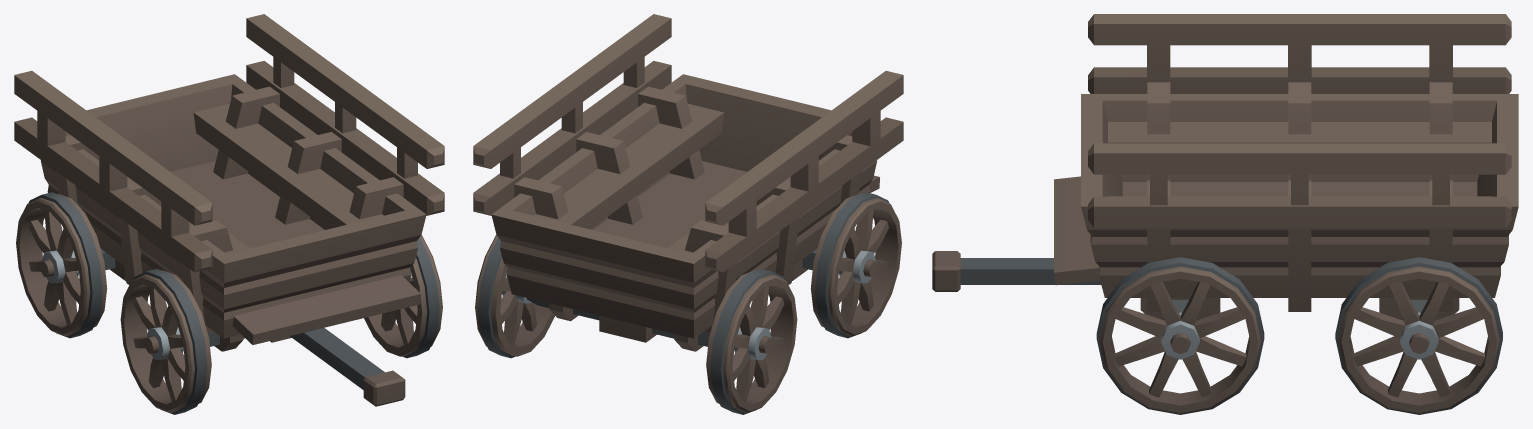
File: wagon.gltf
The picture shows the model from 3 angles, left to right: view 1: azimuth 30°, elevation 25°; view 2: azimuth 150°, elevation 25°; view 3: azimuth 270°, elevation 25°; orthographic projection. The views are drawn at different scales.
Visible parts, largest first — view 1: wagon, wagon_wheel_rear_right, wagon_wheel_front_right, wagon_wheel_front_left; view 2: wagon, wagon_wheel_front_right, wagon_wheel_rear_right, wagon_wheel_rear_left; view 3: wagon, wagon_wheel_rear_left, wagon_wheel_front_left.
Boxes of the visible parts, x1,y1,x2,y2 form: wagon: (14,14,444,406); wagon_wheel_rear_right: (16,192,107,338); wagon_wheel_front_right: (120,269,211,414); wagon_wheel_front_left: (364,235,442,358); wagon: (473,14,903,351); wagon_wheel_front_right: (810,192,901,338); wagon_wheel_rear_right: (706,269,797,414); wagon_wheel_rear_left: (475,235,554,358); wagon: (932,14,1518,320); wagon_wheel_rear_left: (1335,257,1502,414); wagon_wheel_front_left: (1096,257,1264,414).
Size of the model in its own units: 2.97 by 2.47 by 4.99.
Materials: 1 (1 with a texture image).
